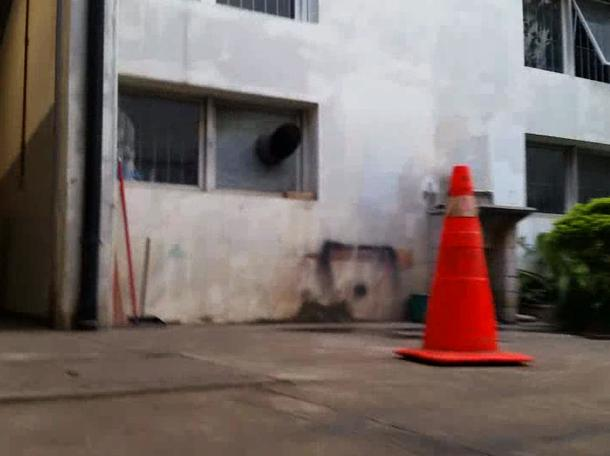0 cone: (395, 166, 533, 364)
